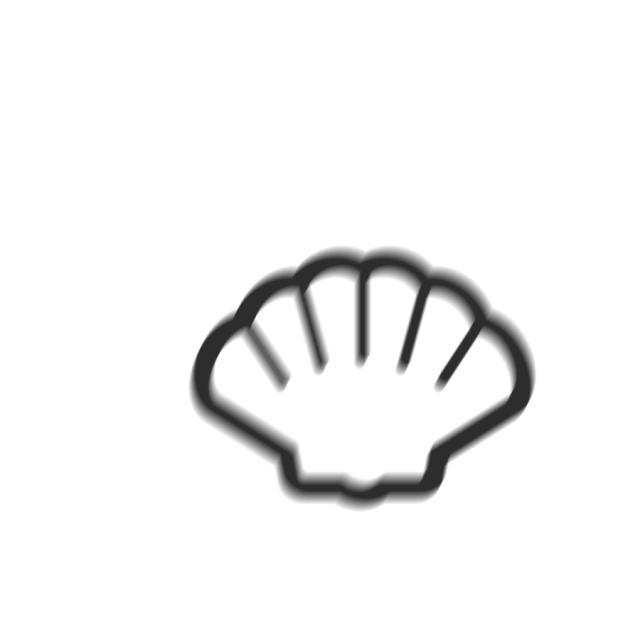shell: (183, 240, 541, 518)
